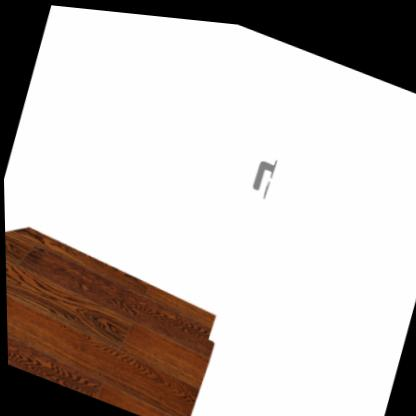Wooden floor: (4, 227, 215, 416)
